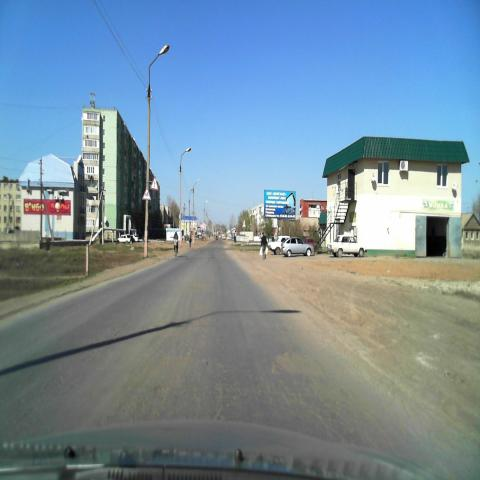1_23: (142, 186, 151, 200)
2_3_2: (151, 176, 159, 190)
